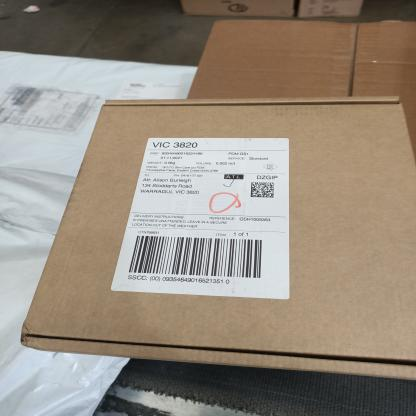label: (111, 137, 290, 300), (0, 84, 98, 136)
package: (19, 96, 416, 379), (188, 19, 416, 140)
